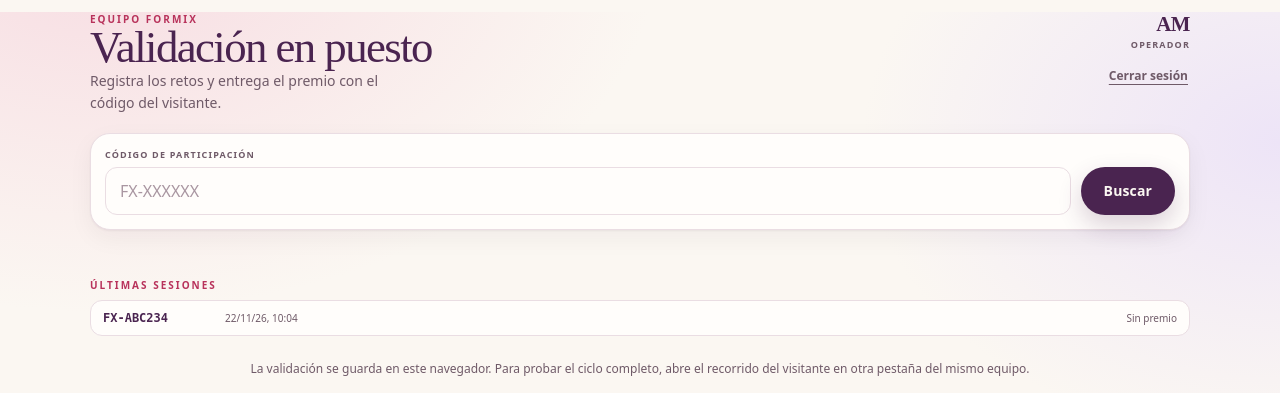
Test case: operator shows a clear error for an unknown code
In the field labelled "Código de participación": (588, 191) [105, 167, 1071, 215], type "FX-NOPE23"
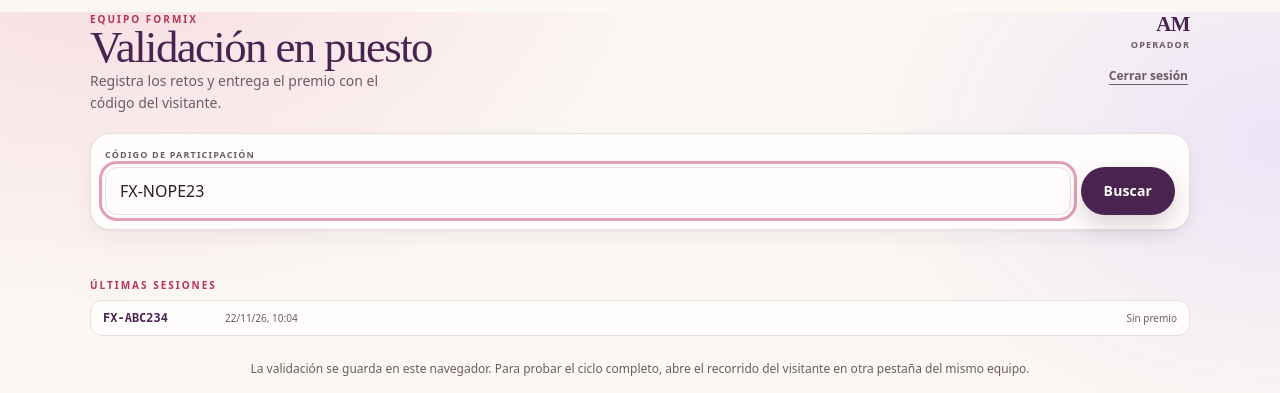
Click the button "Buscar": (1128, 191) [1081, 167, 1175, 215]
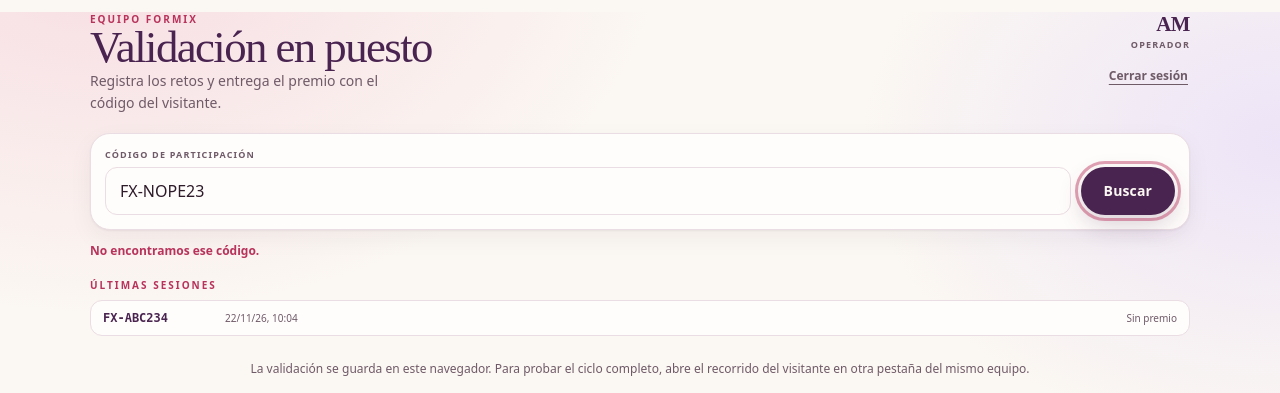
Expected: the text "No encontramos ese código." is shown, [90, 242, 259, 259]
